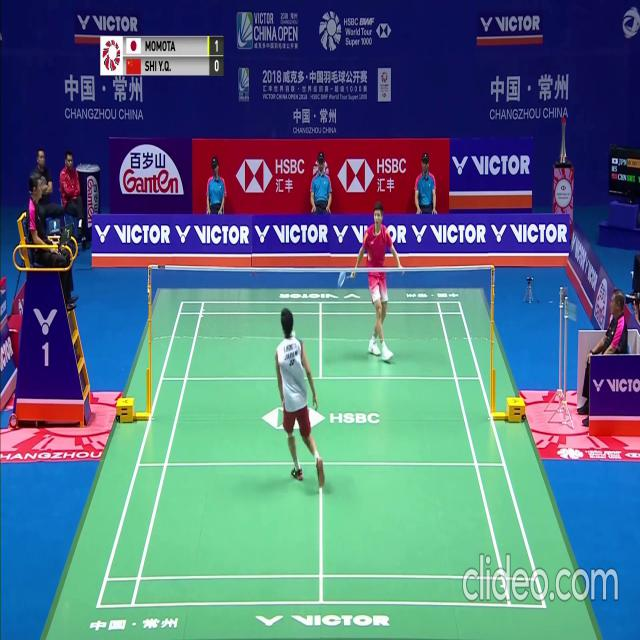Shuttlecock: (291, 330, 296, 337)
